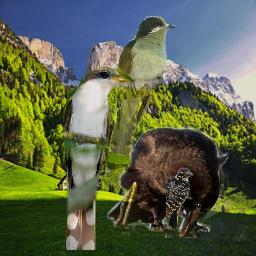Crow: (106, 126, 231, 238)
Cuckoo: (61, 66, 135, 250), (104, 16, 178, 181)
Woodpecker: (166, 167, 193, 231)
